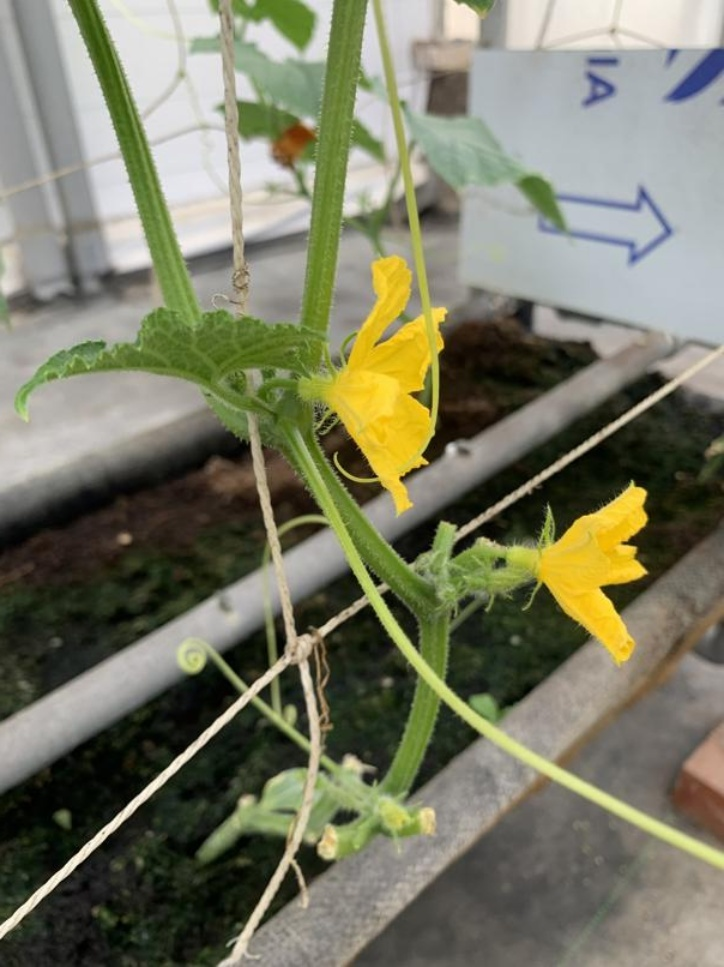flowering: (323, 268, 458, 507), (500, 472, 662, 669)
